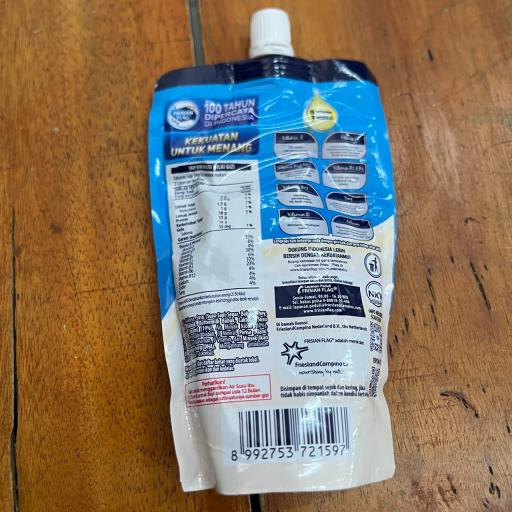Frisian Flag Kental Manis: (186, 10, 373, 488)
